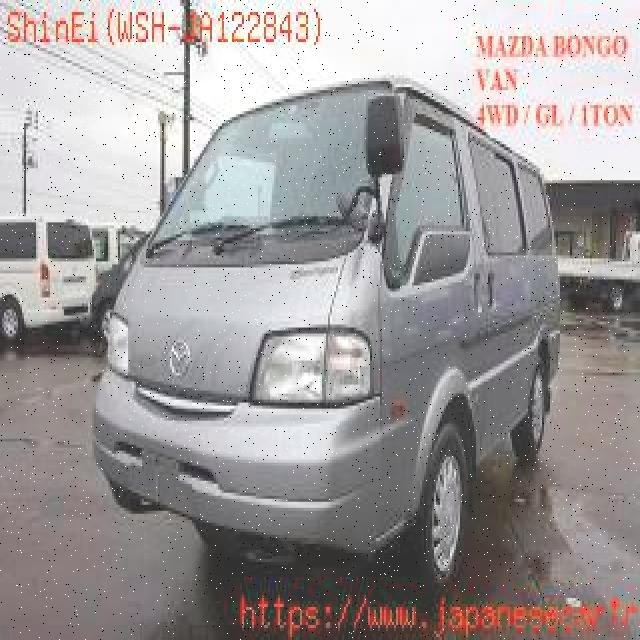Van: (94, 78, 566, 550)
